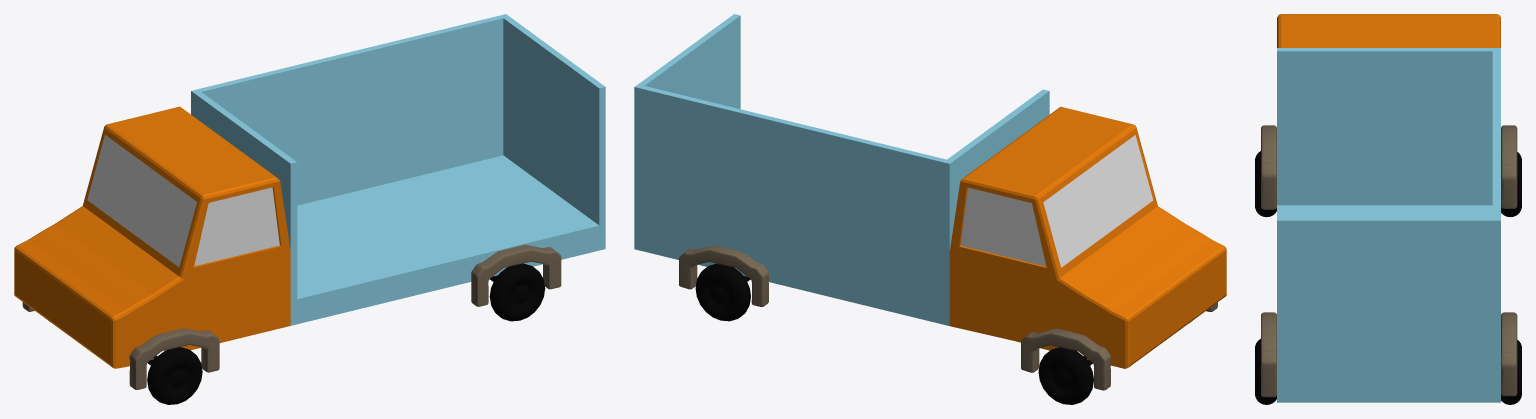
File: xetai.fbx
3 views of the same model, side by side, from view 1: azimuth 30°, elevation 25°; view 2: azimuth 150°, elevation 25°; view 3: azimuth 270°, elevation 25° (orthographic). The views are drawn at different scales.
Visible parts, largest first — view 1: polySurface48, banhxe_truoc, banhxe_sau, polySurface49, polySurface52; view 2: polySurface48, banhxe_truoc, banhxe_sau, polySurface50, polySurface51; view 3: polySurface48, polySurface50, polySurface51, polySurface49, polySurface52, banhxe_sau, banhxe_truoc.
Boxes of the visible parts, bbox=[...] form: polySurface48: bbox=[14, 14, 605, 368]; banhxe_truoc: bbox=[49, 321, 202, 404]; banhxe_sau: bbox=[489, 263, 545, 321]; polySurface49: bbox=[471, 244, 561, 306]; polySurface52: bbox=[129, 328, 219, 389]; polySurface48: bbox=[634, 14, 1226, 368]; banhxe_truoc: bbox=[1038, 322, 1190, 404]; banhxe_sau: bbox=[695, 263, 750, 321]; polySurface50: bbox=[679, 245, 768, 306]; polySurface51: bbox=[1021, 328, 1110, 390]; polySurface48: bbox=[1277, 14, 1500, 402]; polySurface50: bbox=[1501, 312, 1517, 396]; polySurface51: bbox=[1501, 125, 1517, 208]; polySurface49: bbox=[1261, 312, 1276, 397]; polySurface52: bbox=[1261, 125, 1276, 209]; banhxe_sau: bbox=[1255, 339, 1521, 404]; banhxe_truoc: bbox=[1255, 151, 1521, 217].
Bounding box in the file's own units: 19.76 × 7.92 × 8.24.
